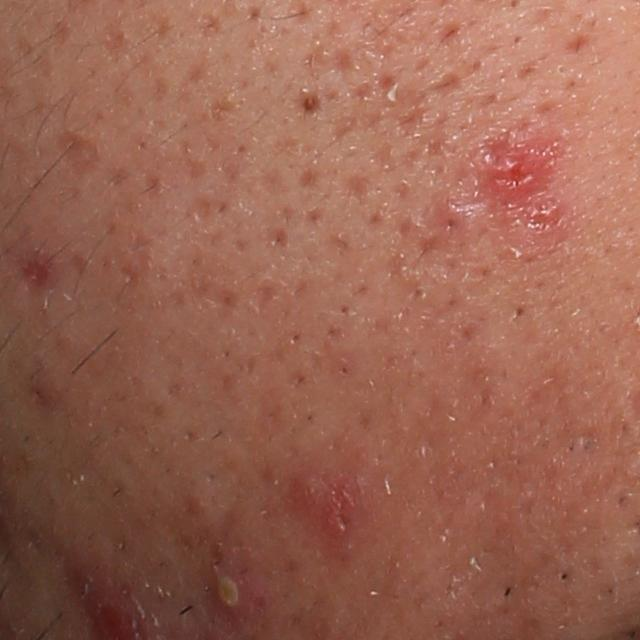atrophic_scar: (335, 71, 463, 142), (10, 249, 57, 295), (53, 127, 102, 169)
papule: (482, 138, 551, 209), (430, 194, 486, 244)
pustule: (205, 572, 252, 619)
